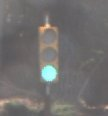Green: (36, 9, 61, 88)
